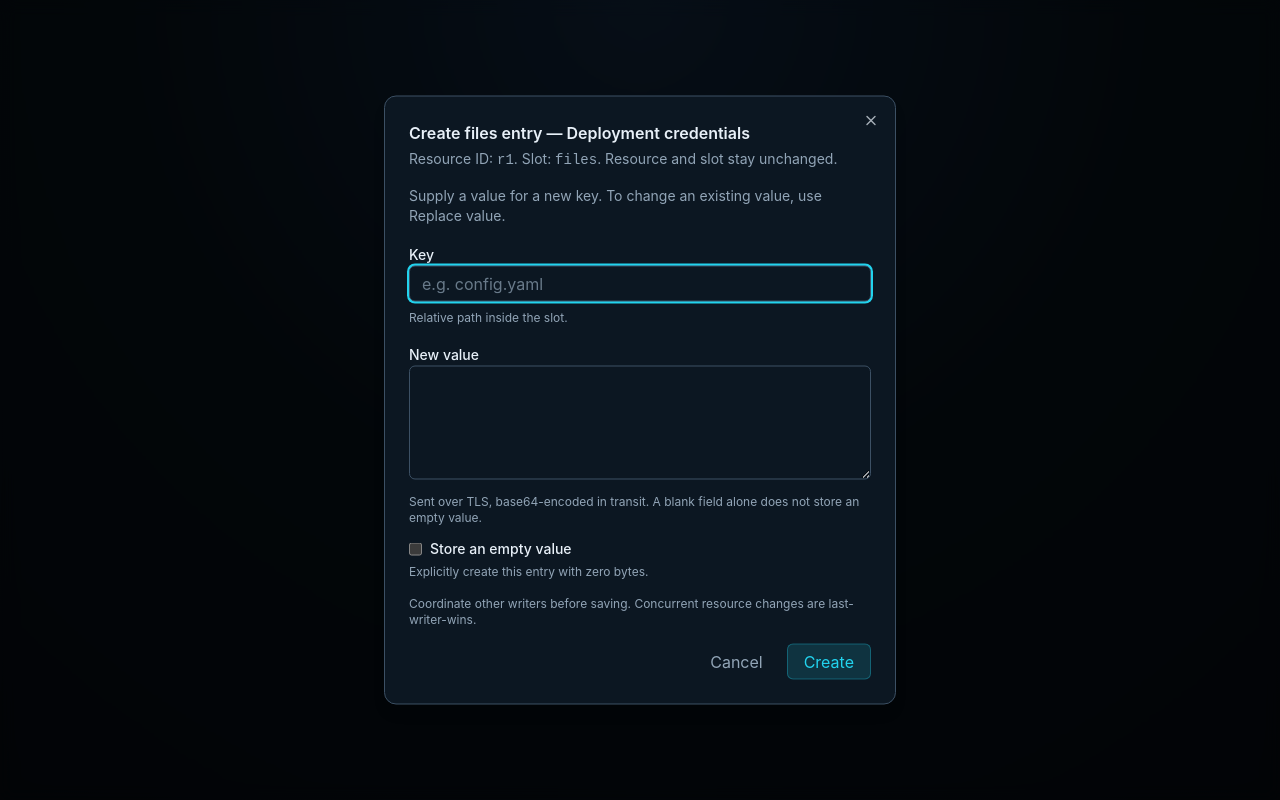
Scenario: WriteSecretDialog › stores explicitly empty create material as an empty base64 string
The image size is (1280, 800).
Later steps or results of the test are not shown.
Type "entry.txt" into the field labelled "Key". click: (640, 284)
box: [409,266,871,302]
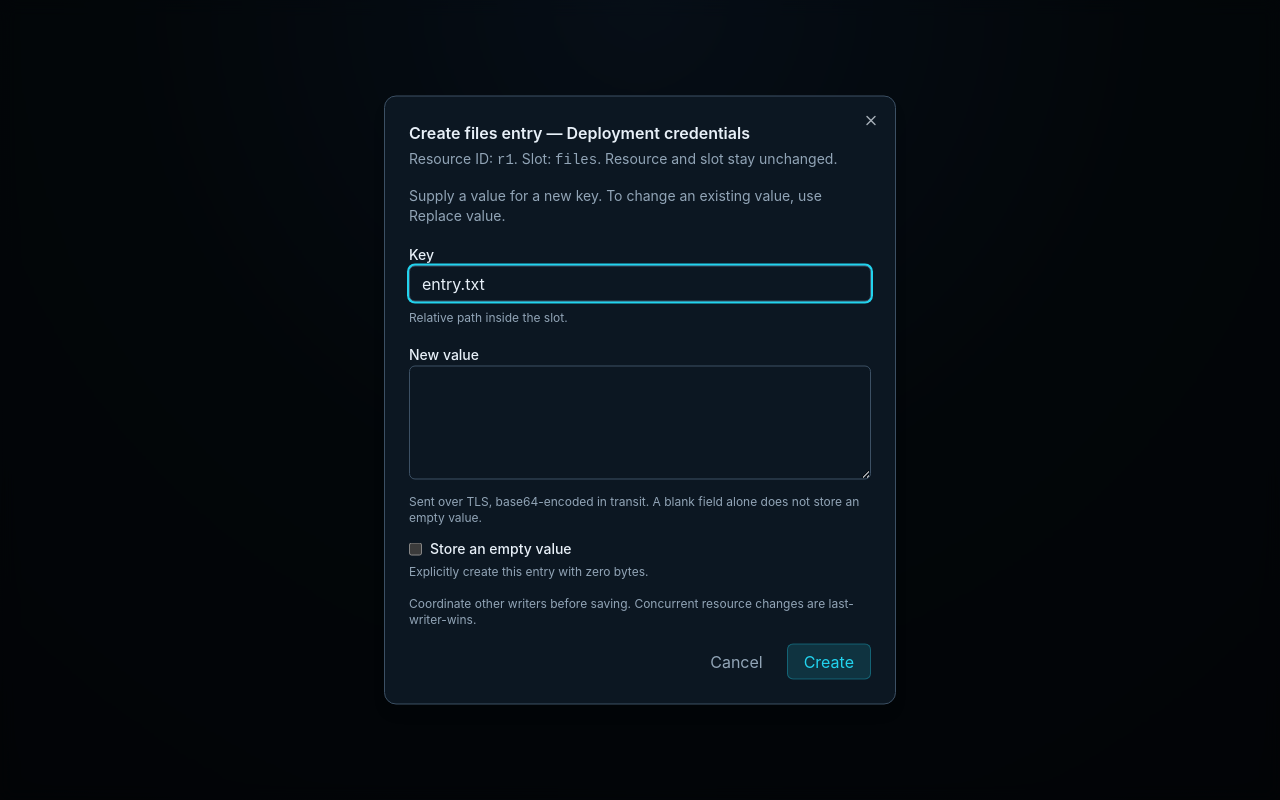
Type "discard this newly supplied input" into the text box with test id "material-input". click: (640, 422)
box: [409,366,871,480]
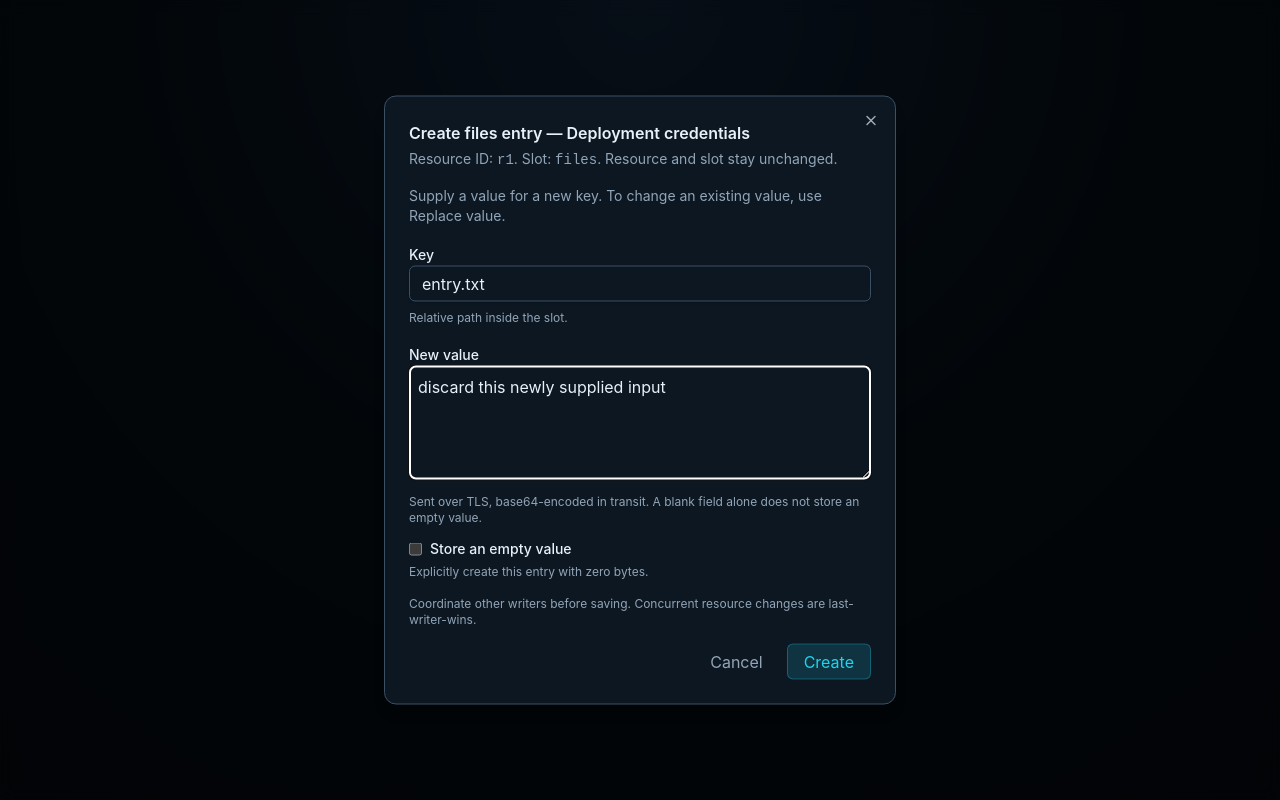
Click the checkbox labelled "Store an empty value". click: (416, 548)
box: [409,542,422,555]
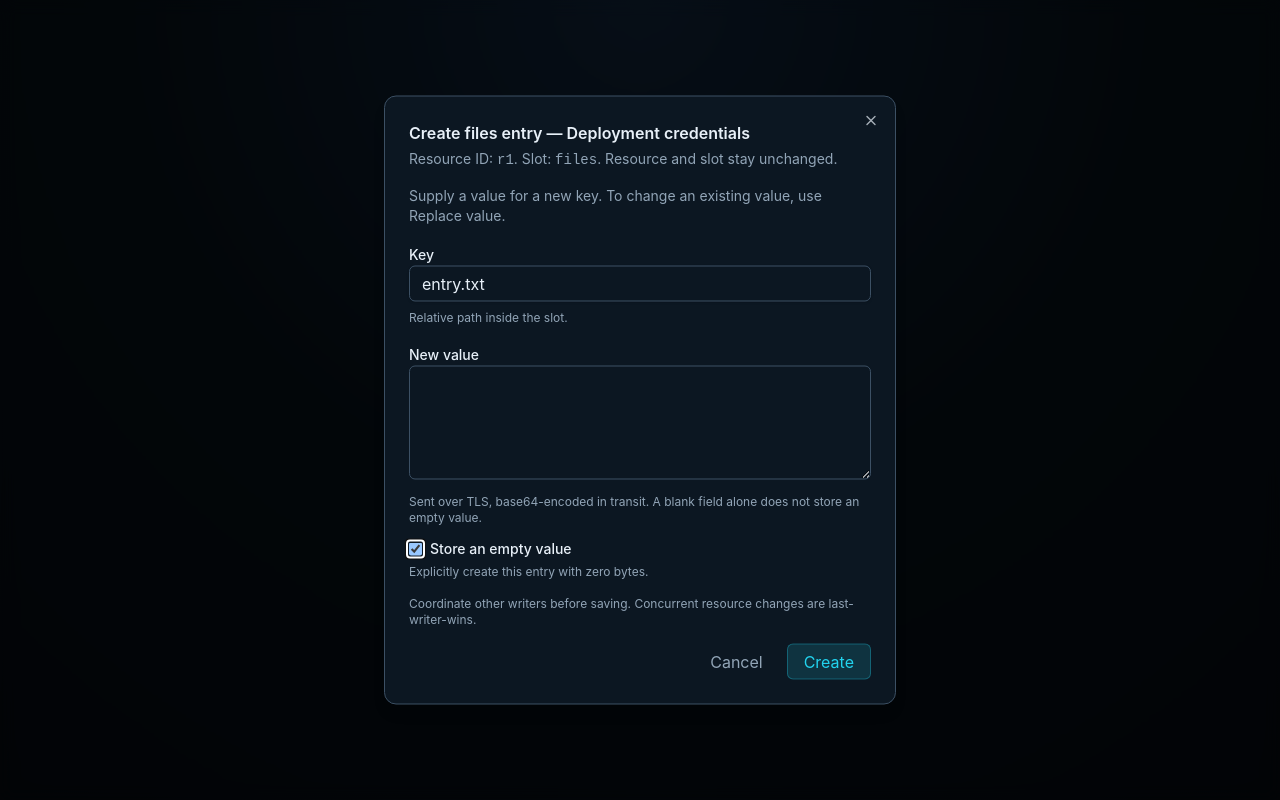
Result: the text box with test id "material-input" is disabled at [409,366,871,480]
Result: the text box with test id "material-input" is empty at [409,366,871,480]
